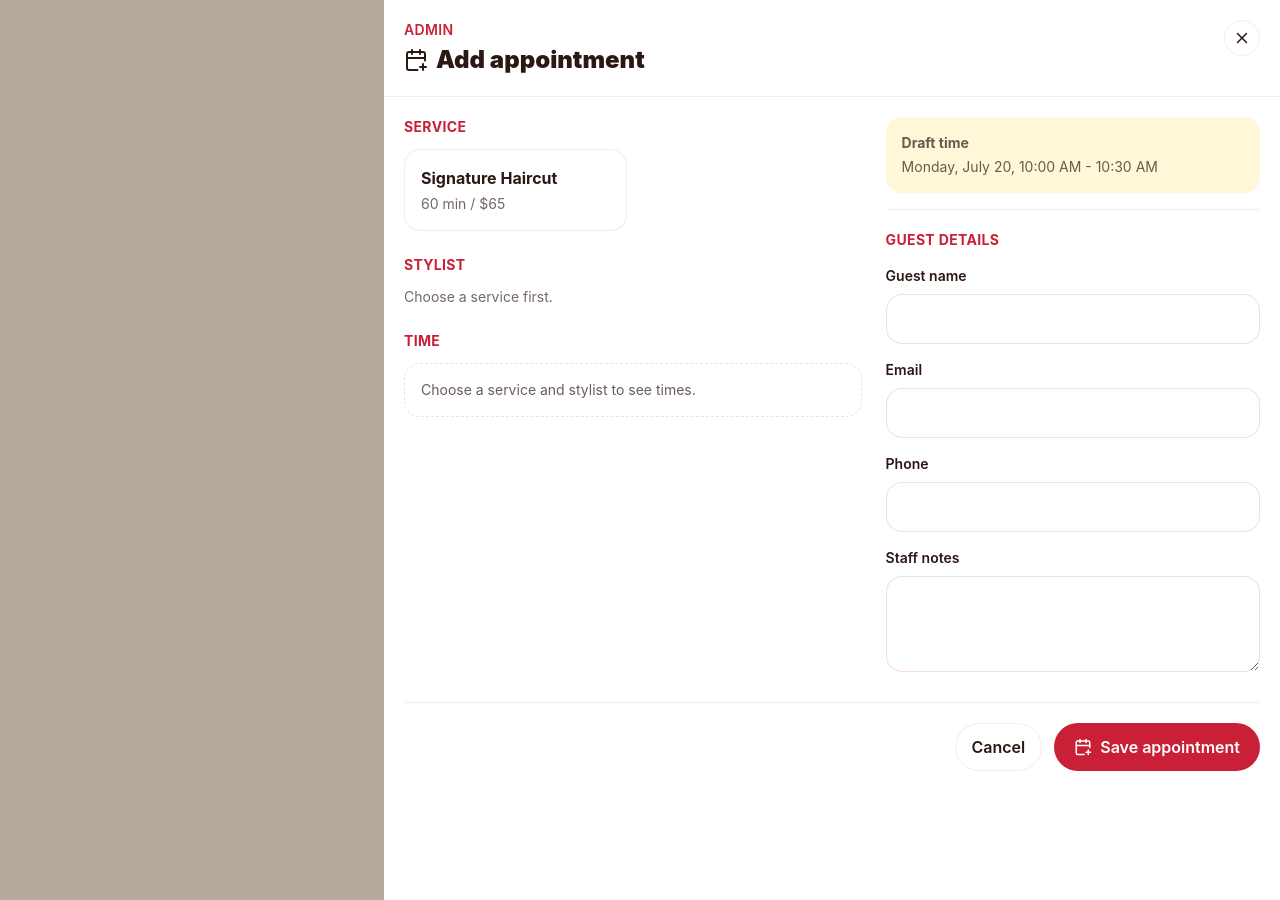
Test: AdminAddAppointmentDialog › shows a clear message when the dragged start is unavailable
The width and height of the screenshot is (1280, 900).
Click the button "Signature Haircut 60 min / $65": (515, 190) [404, 149, 627, 231]
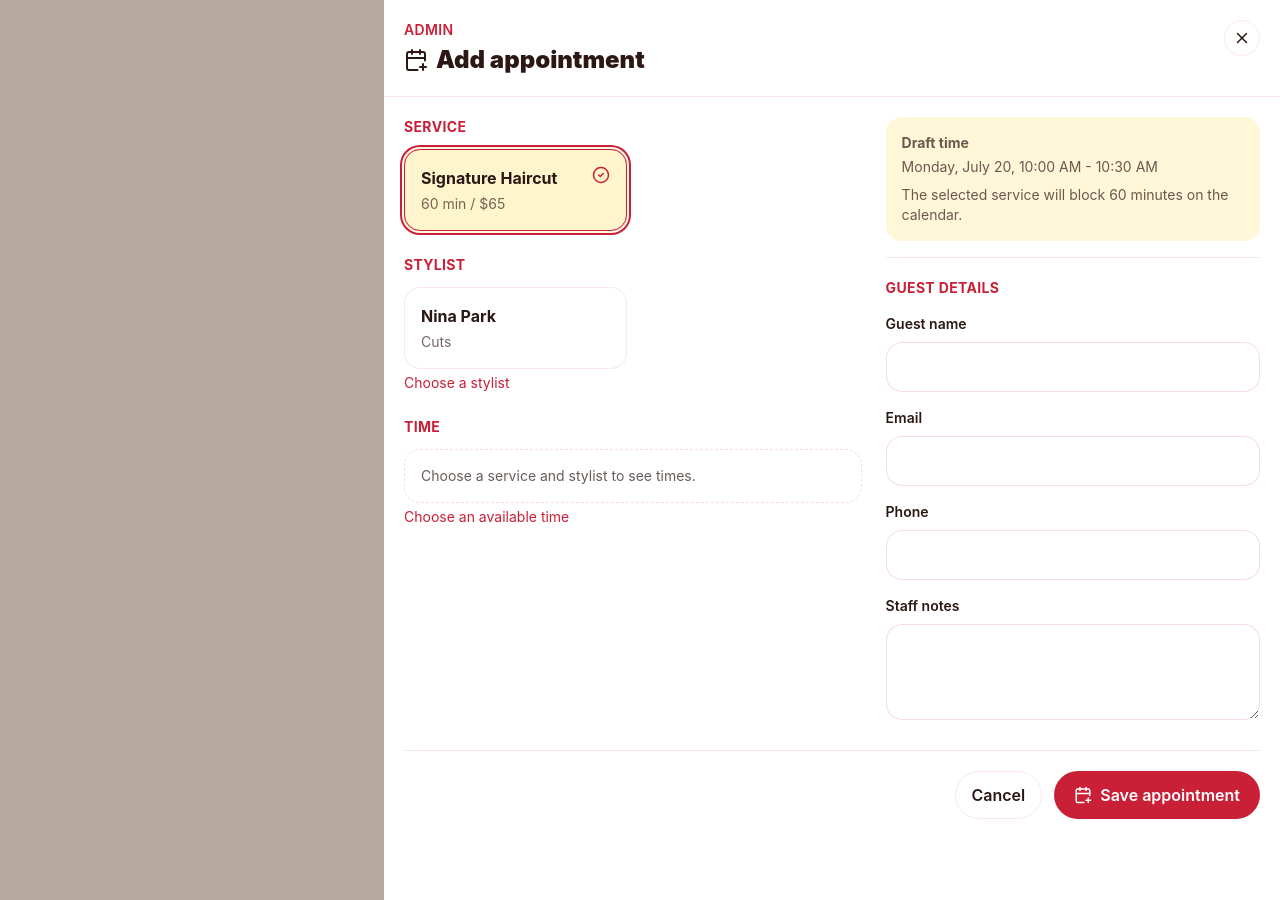
Click the button "Nina Park Cuts": (515, 328) [404, 287, 627, 369]
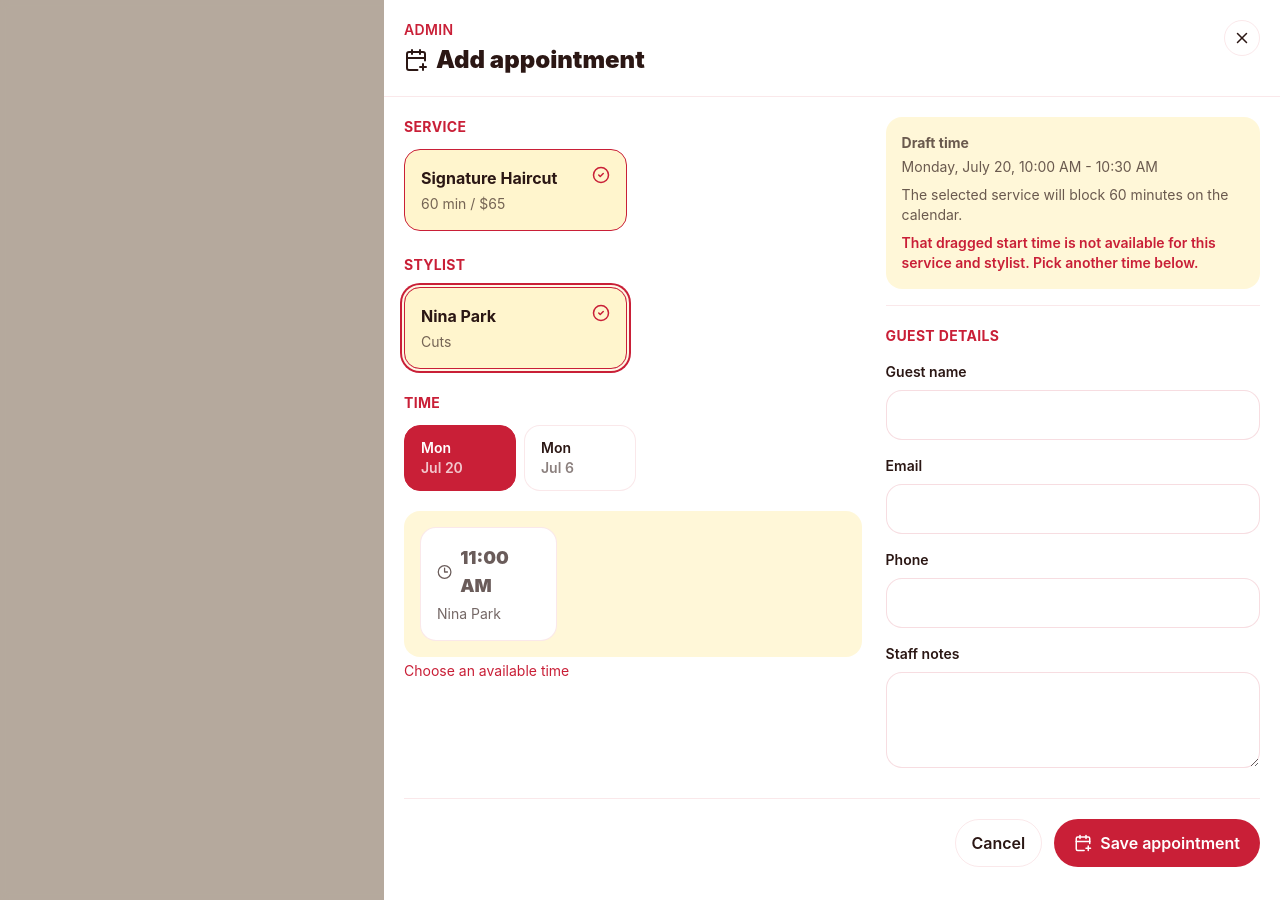
Expected: the text "That dragged start time is not available for this service and stylist. Pick another time below." is shown, [902, 234, 1216, 271]
Expected: the button "11:00 AM Nina Park" is shown, [420, 527, 556, 641]
